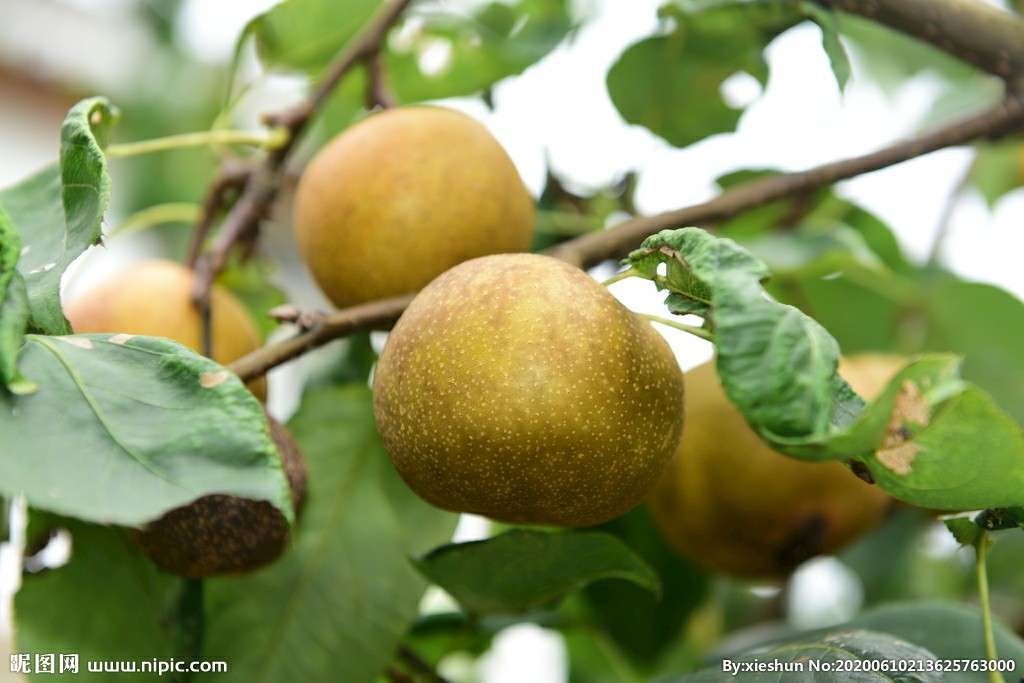pear: (370, 254, 687, 529), (295, 105, 533, 315), (60, 257, 274, 445)
